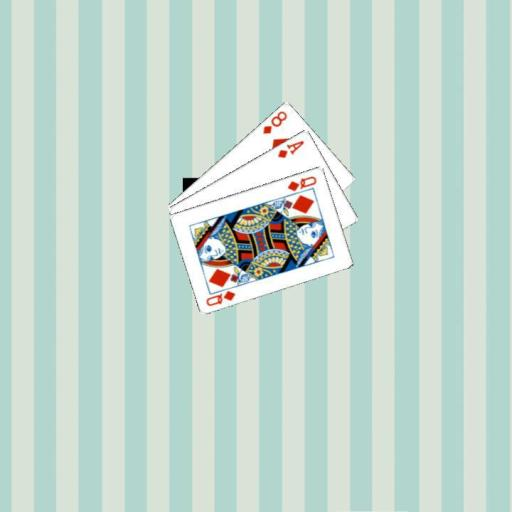8D: (260, 107, 289, 135)
AD: (274, 138, 306, 160)
QD: (284, 173, 318, 193), (203, 287, 237, 307)
